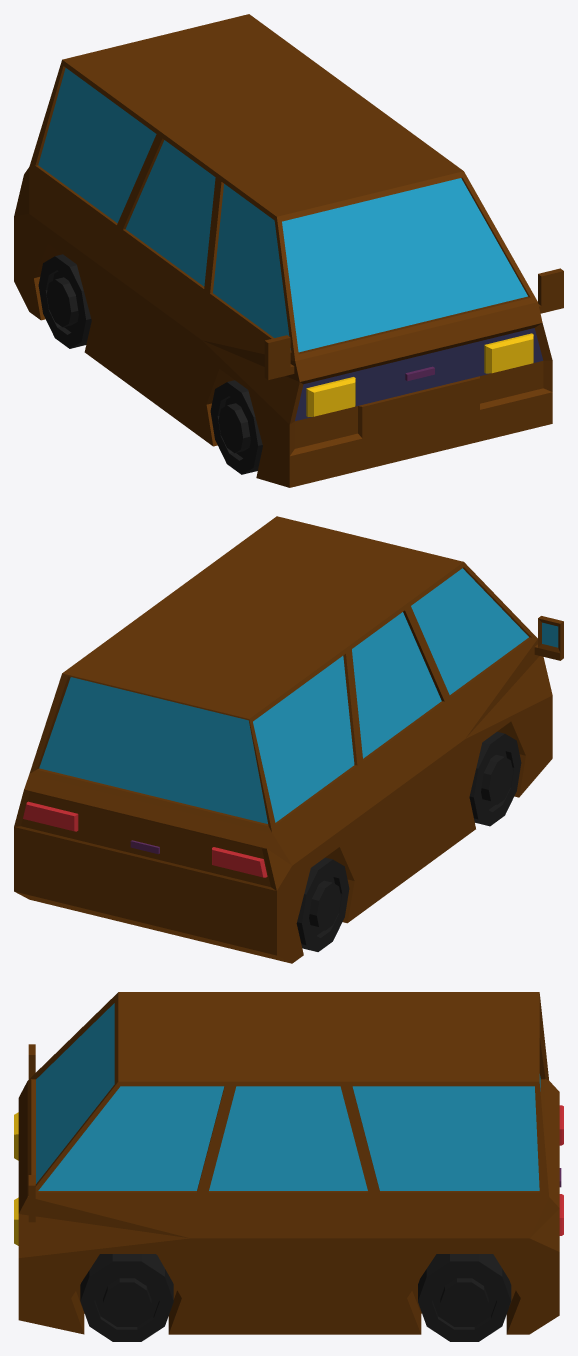
File: van.obj
The picture shows the model from 3 angles, top to bottom: view 1: azimuth 30°, elevation 25°; view 2: azimuth 150°, elevation 25°; view 3: azimuth 270°, elevation 25°; orthographic projection.
Parts seen in each view (by area): view 1: van_Cube.012; view 2: van_Cube.012; view 3: van_Cube.012.
Boxes of the visible parts, box(x1,y1,x2,y2) form: van_Cube.012: box(14, 14, 563, 487); van_Cube.012: box(14, 516, 563, 963); van_Cube.012: box(14, 992, 563, 1341).
Size of the model in its own units: 4.34 by 3.46 by 7.12.
